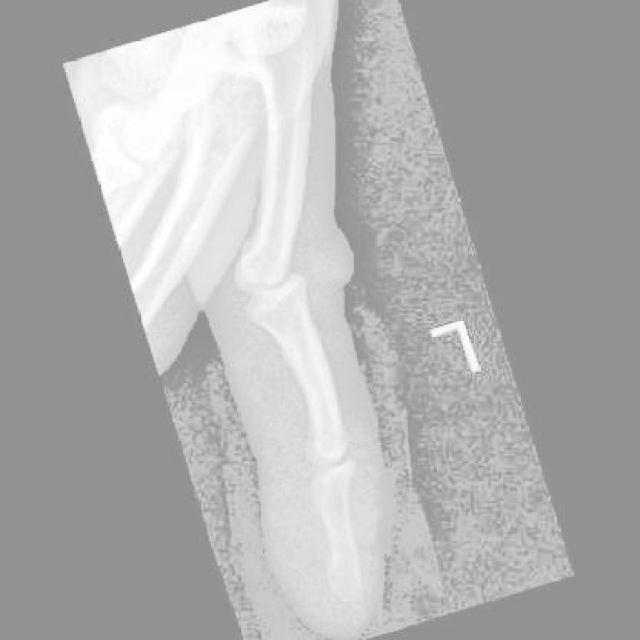Fracture: (317, 543, 379, 611)
